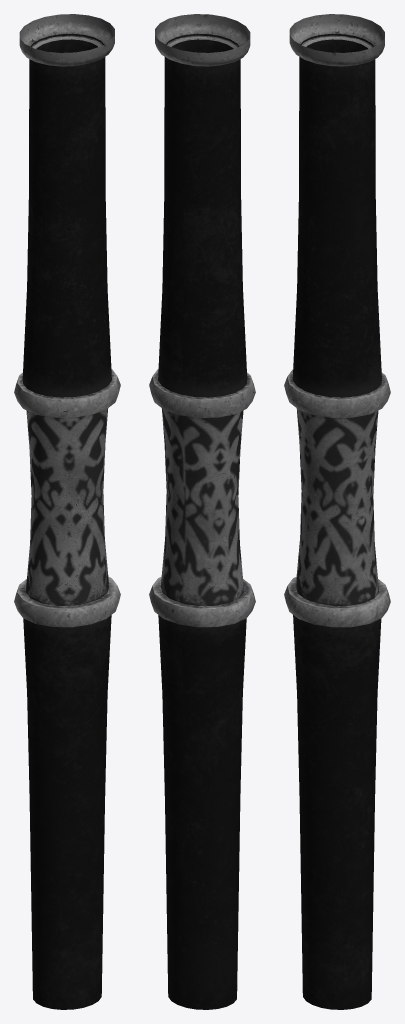
Rendered from wm_witch_king_sword_hilt.fbx.
3 views of the same model, side by side, from view 1: azimuth 30°, elevation 25°; view 2: azimuth 150°, elevation 25°; view 3: azimuth 330°, elevation 25° (orthographic).
Parts seen in each view (by area): view 1: wm_witch_king_sword_hilt; view 2: wm_witch_king_sword_hilt; view 3: wm_witch_king_sword_hilt.
Part boxes in pixels (x1,y1,x2,y2): wm_witch_king_sword_hilt: (14, 14, 120, 1009); wm_witch_king_sword_hilt: (149, 14, 255, 1009); wm_witch_king_sword_hilt: (284, 14, 390, 1009).
Bounding box in the file's own units: 0.0343 × 0.0315 × 0.3325.
